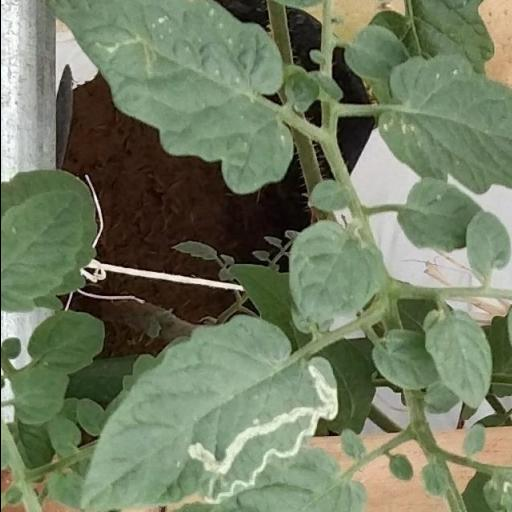Leaf Miner: (69, 314, 339, 510)
